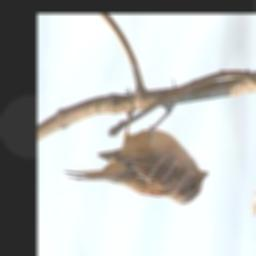Sparrow: (62, 79, 210, 206)
